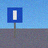sign: (7, 7, 22, 38)
